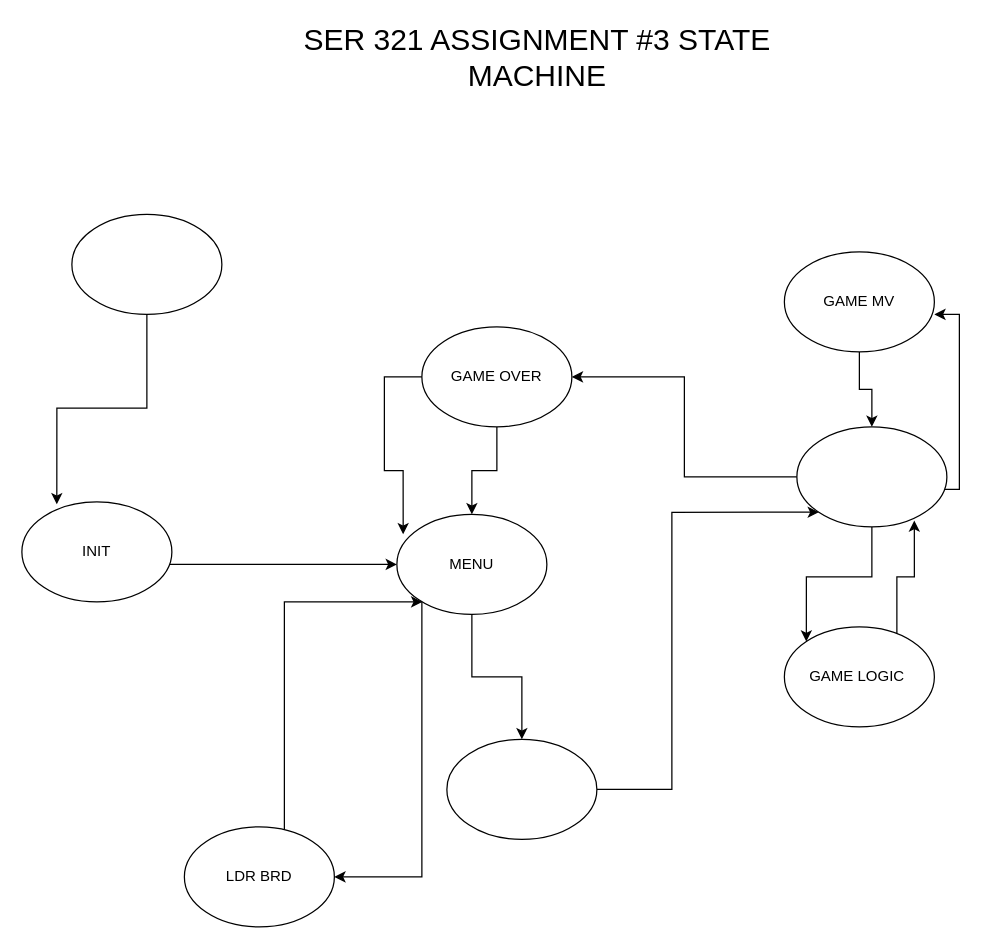
The diagram is 991 pixels wide and 949 high, and some of its shapes have lost their labels. Here are the shapes that lost their labels. From the top down, the box of each, then its label:
(71, 213, 222, 314): UNINIT
(796, 426, 947, 527): IDLE PLAYER MV
(446, 738, 597, 839): GAME INIT
